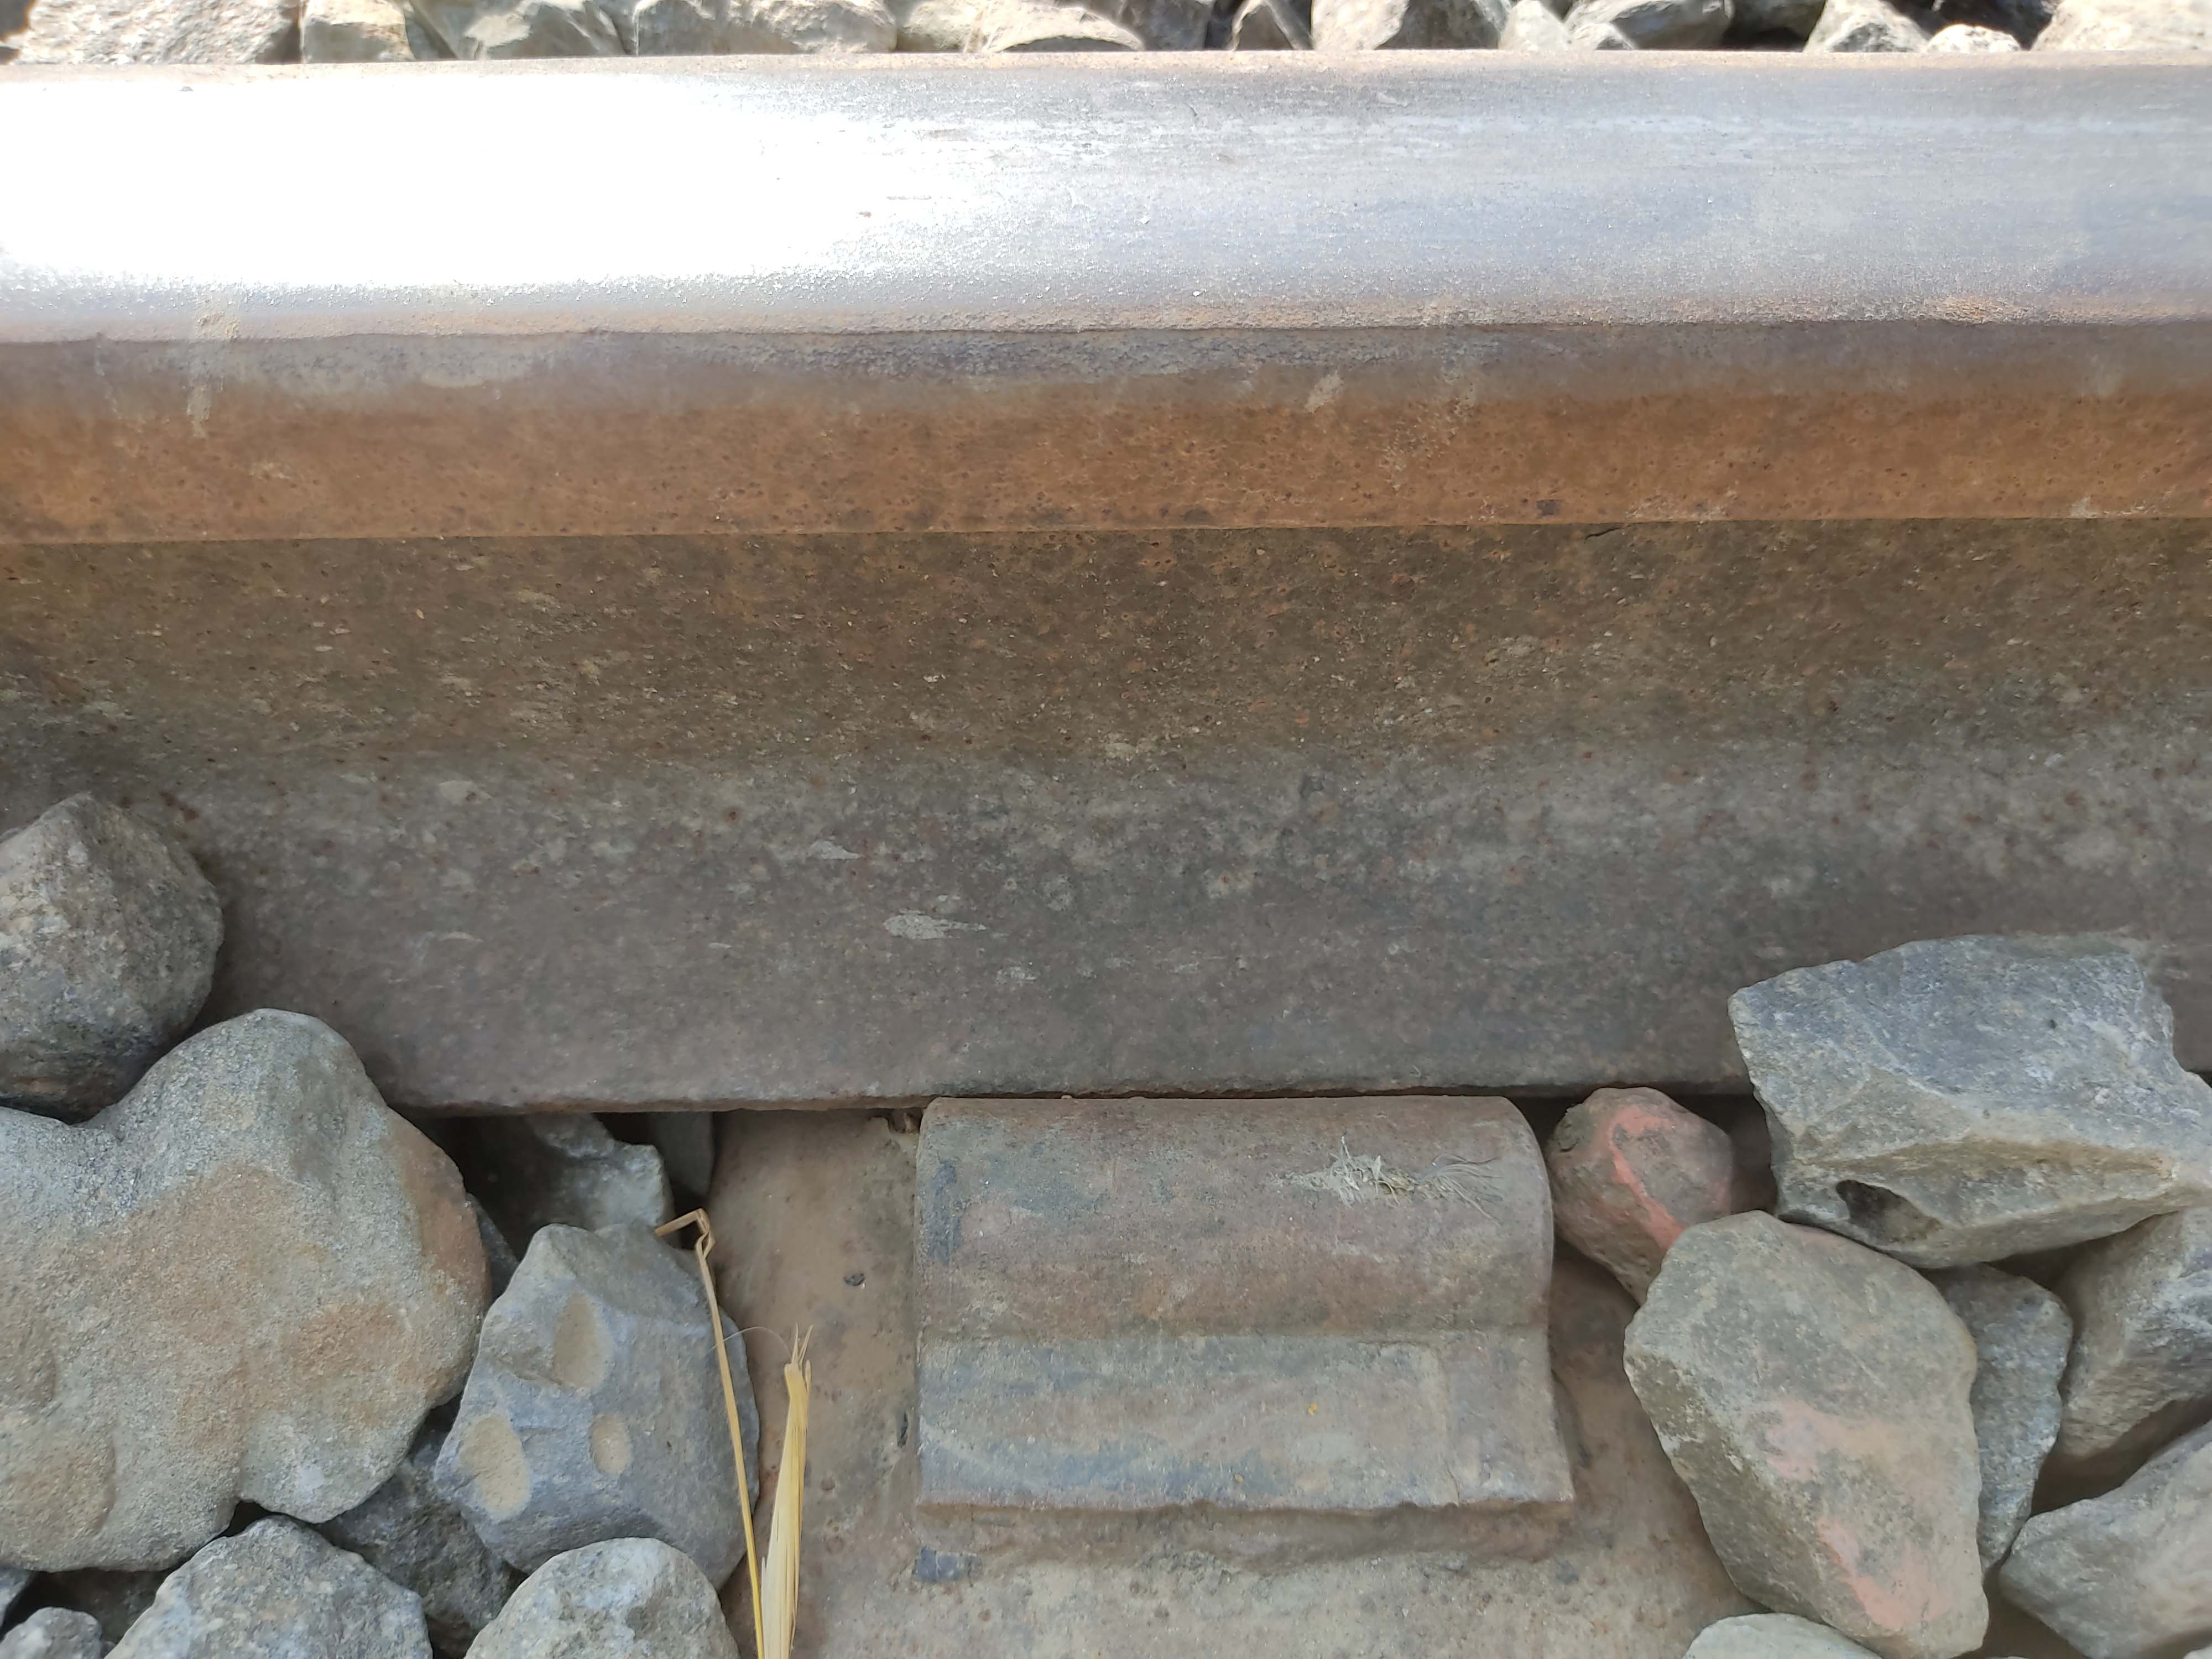error1: (836, 934, 1656, 1598)
